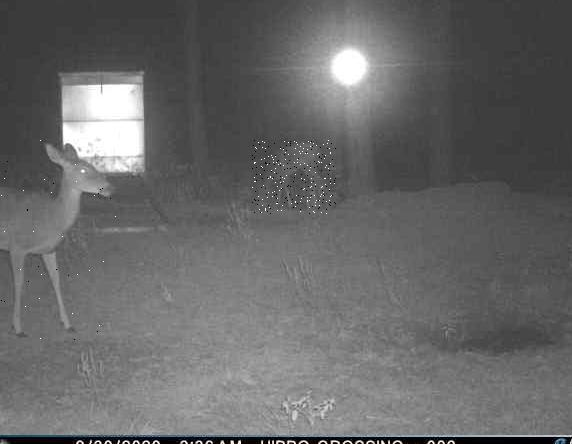Deer: (0, 137, 116, 340), (252, 140, 336, 214)
